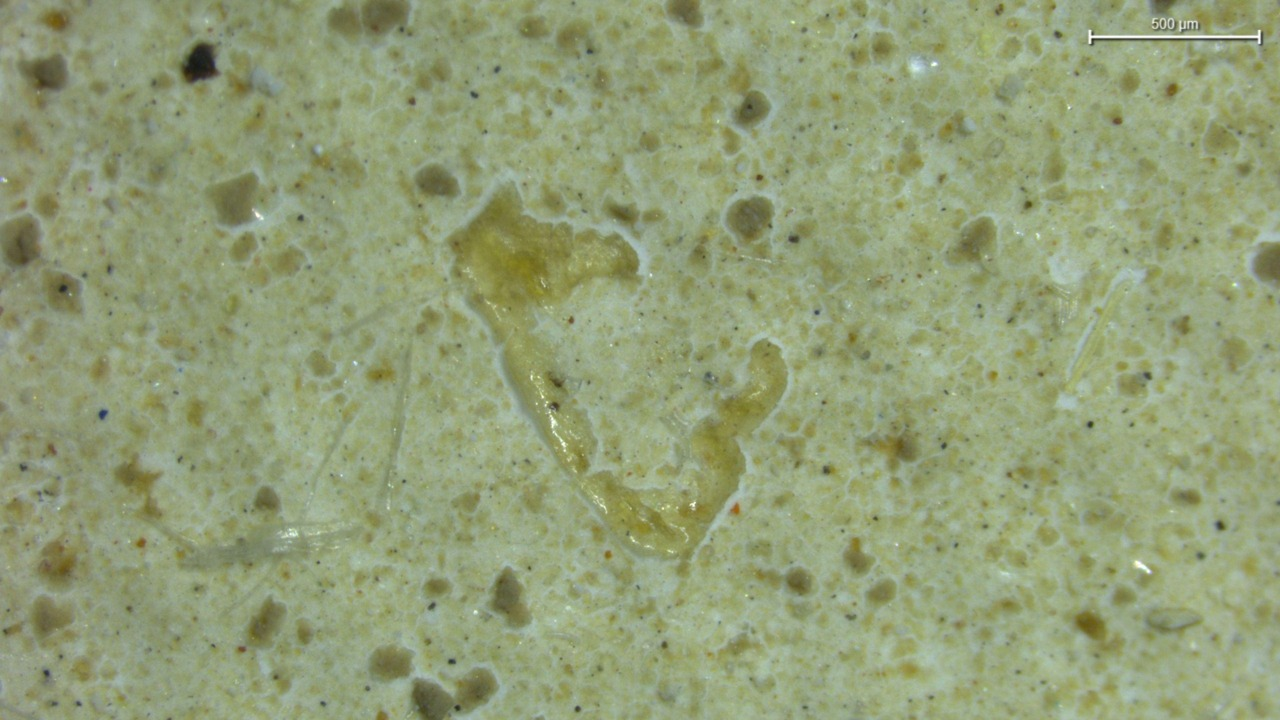microplastic_fragment: (452, 192, 788, 556)
